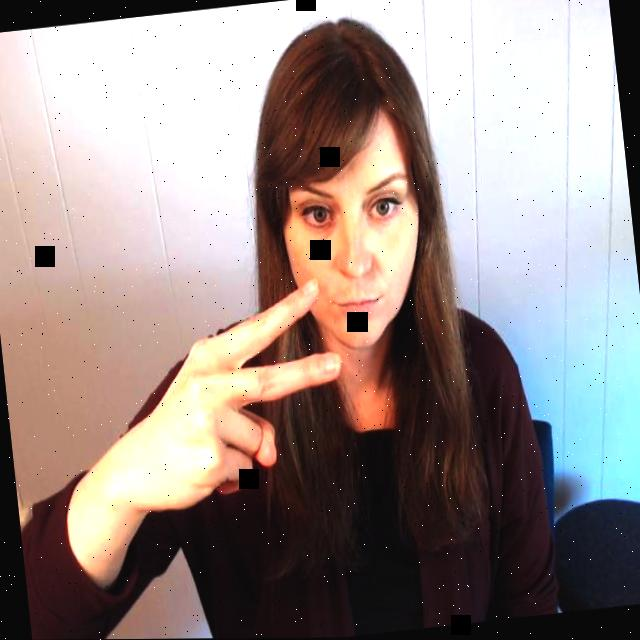Scissors: (122, 271, 350, 519)
